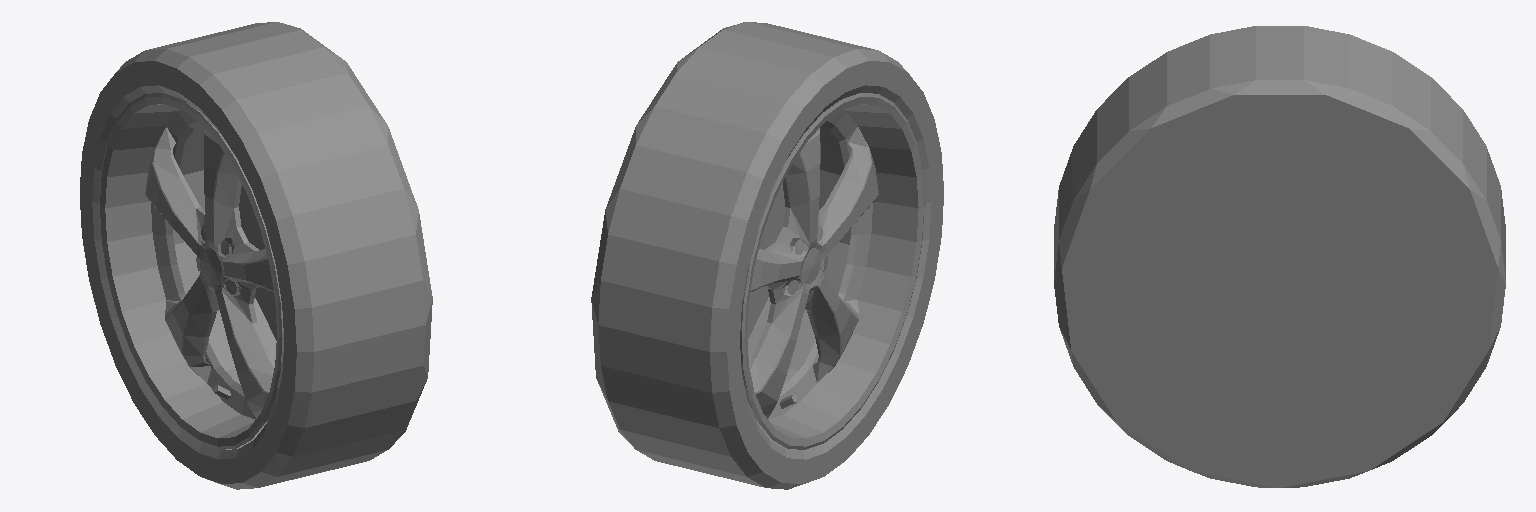
The model's file is Wheel.obj.
3 renders of one model, left to right at view 1: azimuth 30°, elevation 25°; view 2: azimuth 150°, elevation 25°; view 3: azimuth 270°, elevation 25°, orthographic.
Parts seen in each view (by area): view 1: Mesh_0226, Mesh_0245, Mesh_0272; view 2: Mesh_0226, Mesh_0245, Mesh_0272; view 3: Mesh_0226.
Part boxes in pixels (x1,y1,x2,y2): Mesh_0226: (80, 22, 432, 489); Mesh_0245: (145, 100, 276, 426); Mesh_0272: (99, 93, 283, 449); Mesh_0226: (591, 22, 943, 489); Mesh_0245: (748, 100, 878, 426); Mesh_0272: (740, 93, 924, 449); Mesh_0226: (1054, 26, 1505, 487).
Size of the model in its own units: 0.4732 by 1.36 by 1.37.